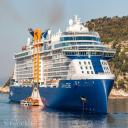cruises: (9, 16, 117, 116)
